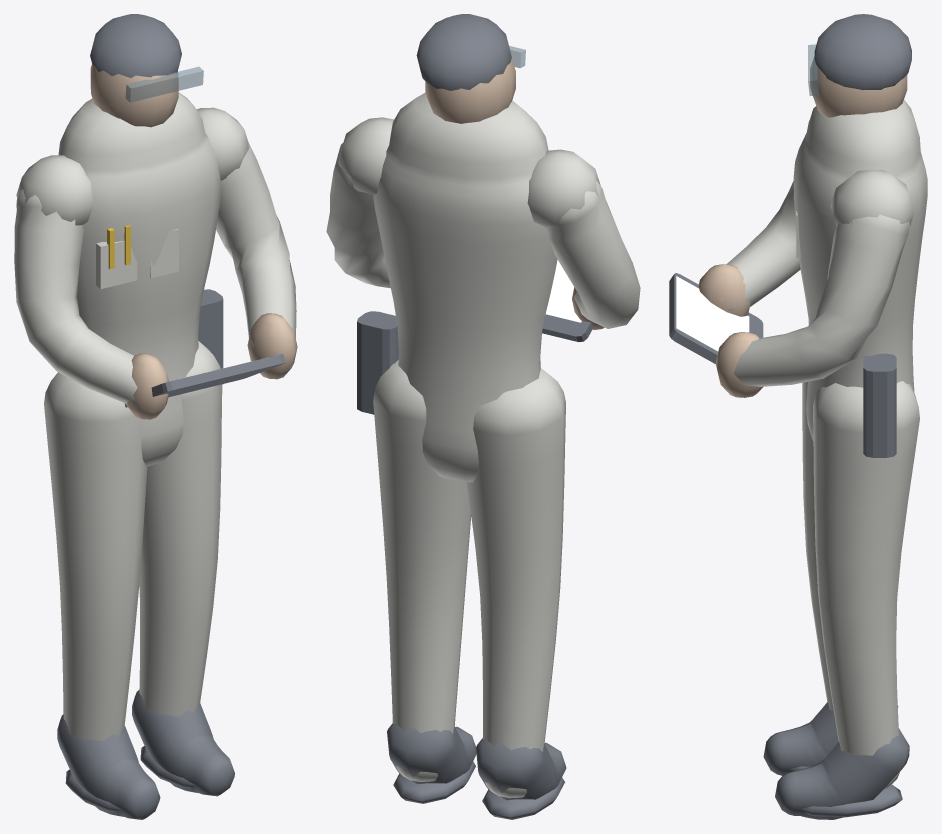
3 views of the same model, side by side, from view 1: azimuth 30°, elevation 25°; view 2: azimuth 150°, elevation 25°; view 3: azimuth 270°, elevation 25° (orthographic). The views are drawn at different scales.
Visible parts, largest first — view 1: technician-with-tablet; view 2: technician-with-tablet; view 3: technician-with-tablet.
Part boxes in pixels (bbox=[...]): technician-with-tablet: bbox=[14, 14, 297, 819]; technician-with-tablet: bbox=[326, 14, 640, 819]; technician-with-tablet: bbox=[669, 14, 927, 819].
Bounding box in the file's own units: 0.6825 × 1.81 × 0.5442.
